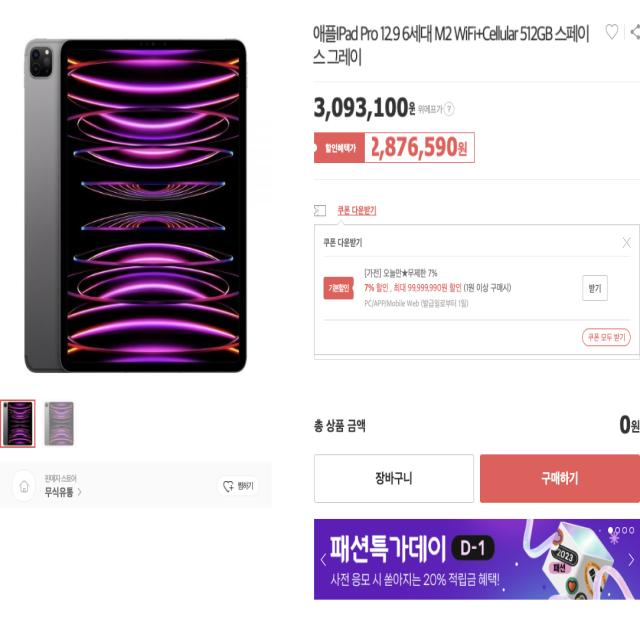product_discount_price: (372, 135, 470, 162)
product_name: (312, 20, 594, 67)
product_original_price: (312, 98, 415, 124)
